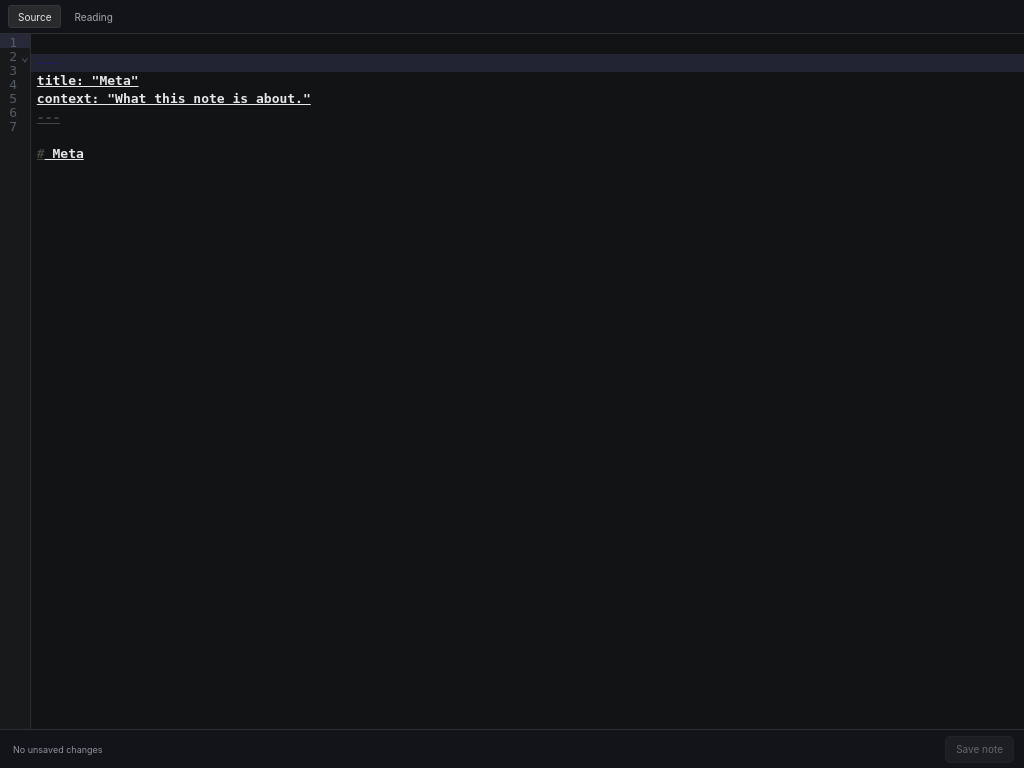
it: reading view › presents frontmatter as metadata rather than body text
Click the button "Reading".
click(94, 16)  # box top-left (64, 5), bottom-right (123, 28)
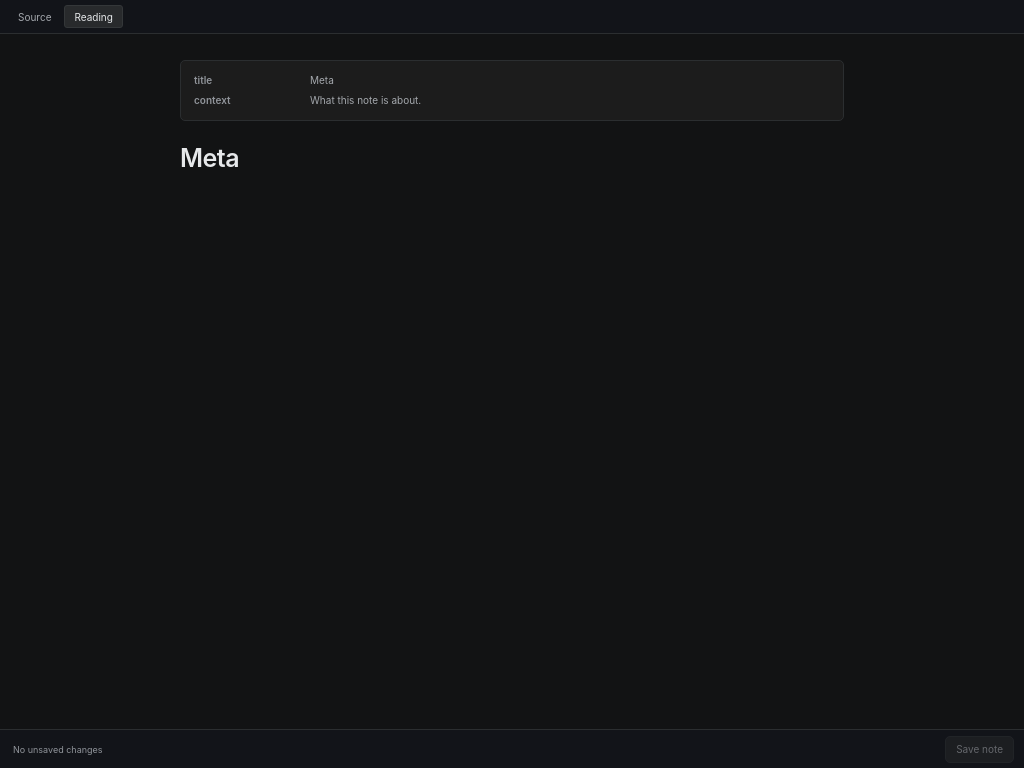
Expected: the element named "Note metadata" shows "context", top-left (194, 94), bottom-right (231, 106)
Expected: the element named "Note metadata" shows "What this note is about.", top-left (310, 94), bottom-right (421, 106)
Expected: the field "title: \"Meta\"" is gone
